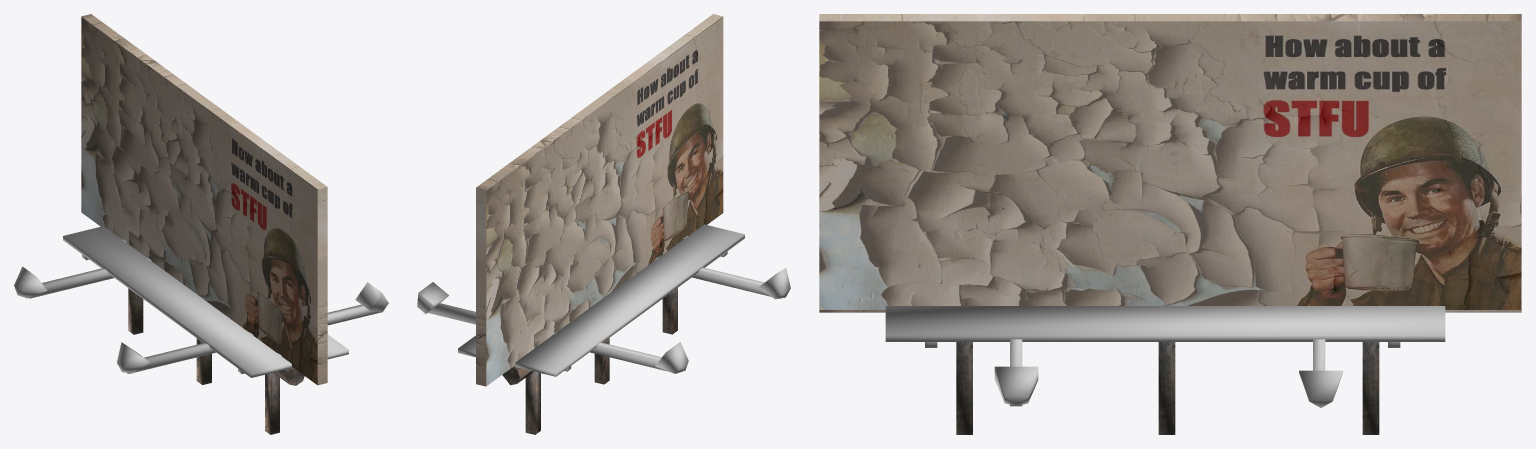
File: billboard4_300.fbx
The picture shows the model from 3 angles, left to right: view 1: azimuth 30°, elevation 25°; view 2: azimuth 150°, elevation 25°; view 3: azimuth 270°, elevation 25°; orthographic projection. The views are drawn at different scales.
Visible parts, largest first — view 1: board0, boards0, lightframes0, poststumps0; view 2: board0, boards0, lightframes0, poststumps0; view 3: board0, boards0, poststumps0, lightframes0.
Boxes of the visible parts, x1,y1,x2,y2 form: board0: (81,14,327,385); boards0: (63,226,348,377); lightframes0: (14,239,388,374); poststumps0: (128,288,279,434); board0: (476,14,723,386); boards0: (458,224,744,376); lightframes0: (417,235,790,373); poststumps0: (525,288,677,434); board0: (819,14,1521,312); boards0: (885,306,1445,341); poststumps0: (956,342,1379,434); lightframes0: (925,339,1400,407).
Bounding box in the file's own units: 10.32 × 10.39 × 15.95.
